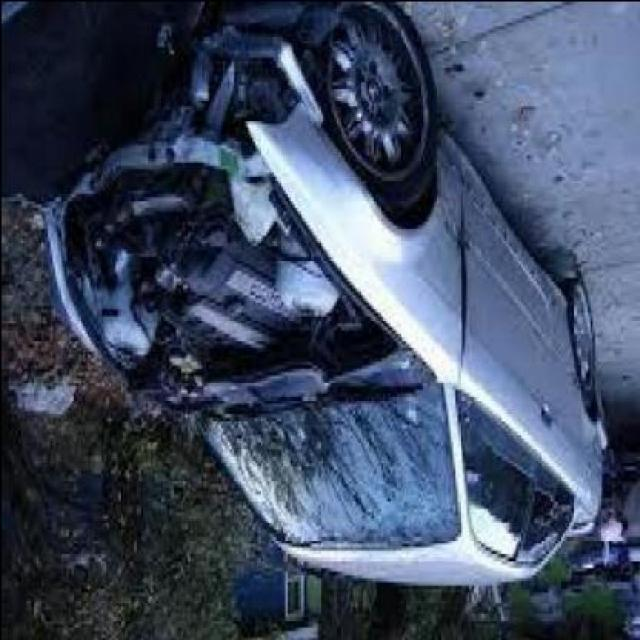damage: (16, 2, 466, 369)
